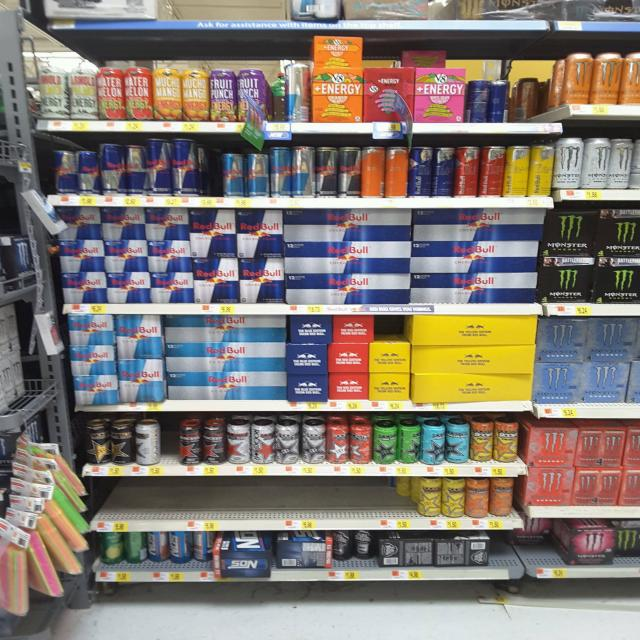void: (120, 478, 152, 532), (276, 477, 308, 531), (211, 476, 241, 532), (88, 476, 118, 530), (310, 476, 340, 529), (244, 476, 273, 530), (154, 478, 182, 530), (184, 478, 210, 531), (341, 478, 366, 529), (369, 479, 394, 529), (202, 138, 220, 207), (394, 478, 416, 529)
